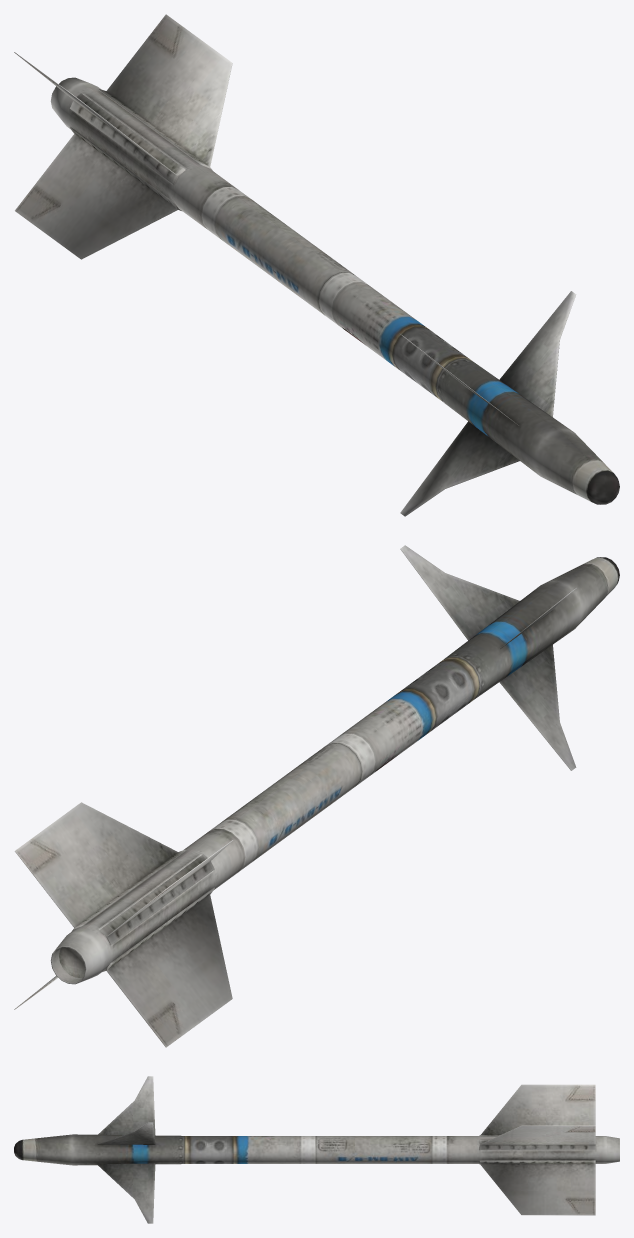
The model's file is rocket.glb.
The picture shows the model from 3 angles, top to bottom: view 1: azimuth 30°, elevation 25°; view 2: azimuth 150°, elevation 25°; view 3: azimuth 270°, elevation 25°; orthographic projection. The views are drawn at different scales.
Visible parts, largest first — view 1: rocket; view 2: rocket; view 3: rocket.
Part boxes in pixels (x1,y1,x2,y2): rocket: [14, 14, 619, 516]; rocket: [14, 545, 619, 1047]; rocket: [14, 1076, 619, 1223].
Bounding box in the file's own units: 0.774 × 0.774 × 4.2.
1 material, 1 textured.
